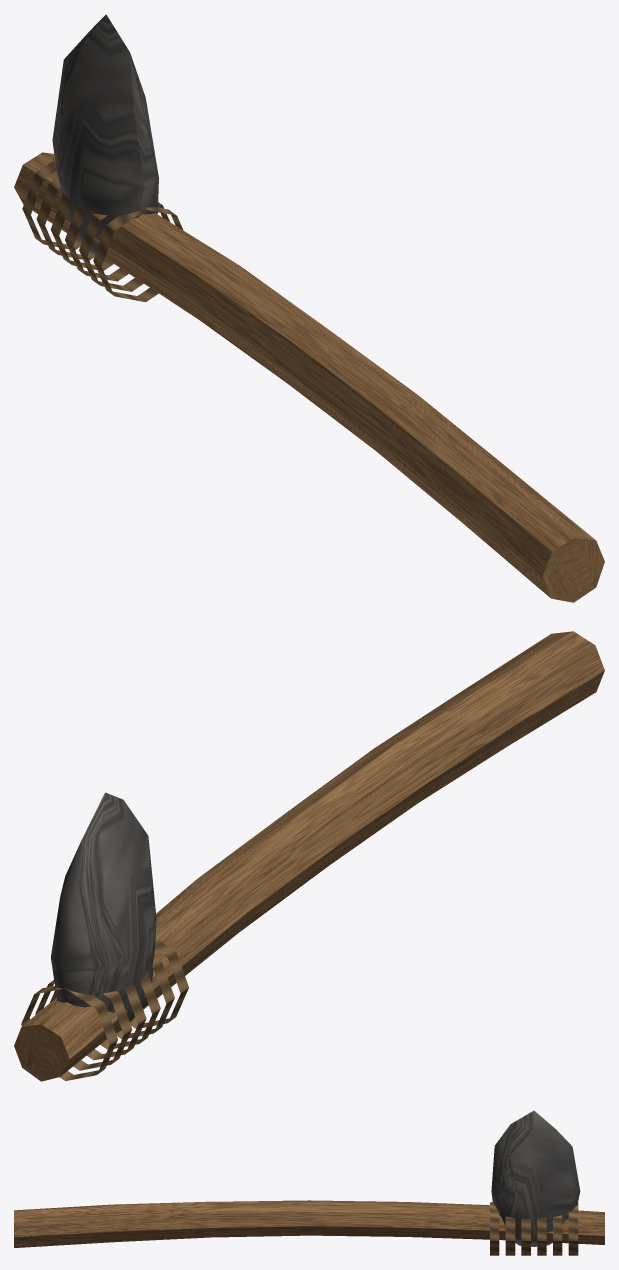
File: TOOL_StoneAxe.fbx
3 renders of one model, top to bottom at view 1: azimuth 30°, elevation 25°; view 2: azimuth 150°, elevation 25°; view 3: azimuth 270°, elevation 25°, orthographic. The views are drawn at different scales.
Parts seen in each view (by area): view 1: TOOL_StoneAxe; view 2: TOOL_StoneAxe; view 3: TOOL_StoneAxe.
Part boxes in pixels (<box>): TOOL_StoneAxe: <box>14,14,604,602</box>; TOOL_StoneAxe: <box>14,631,604,1081</box>; TOOL_StoneAxe: <box>14,1110,604,1255</box>.
Bounding box in the file's own units: 0.048 × 0.1345 × 0.5.
